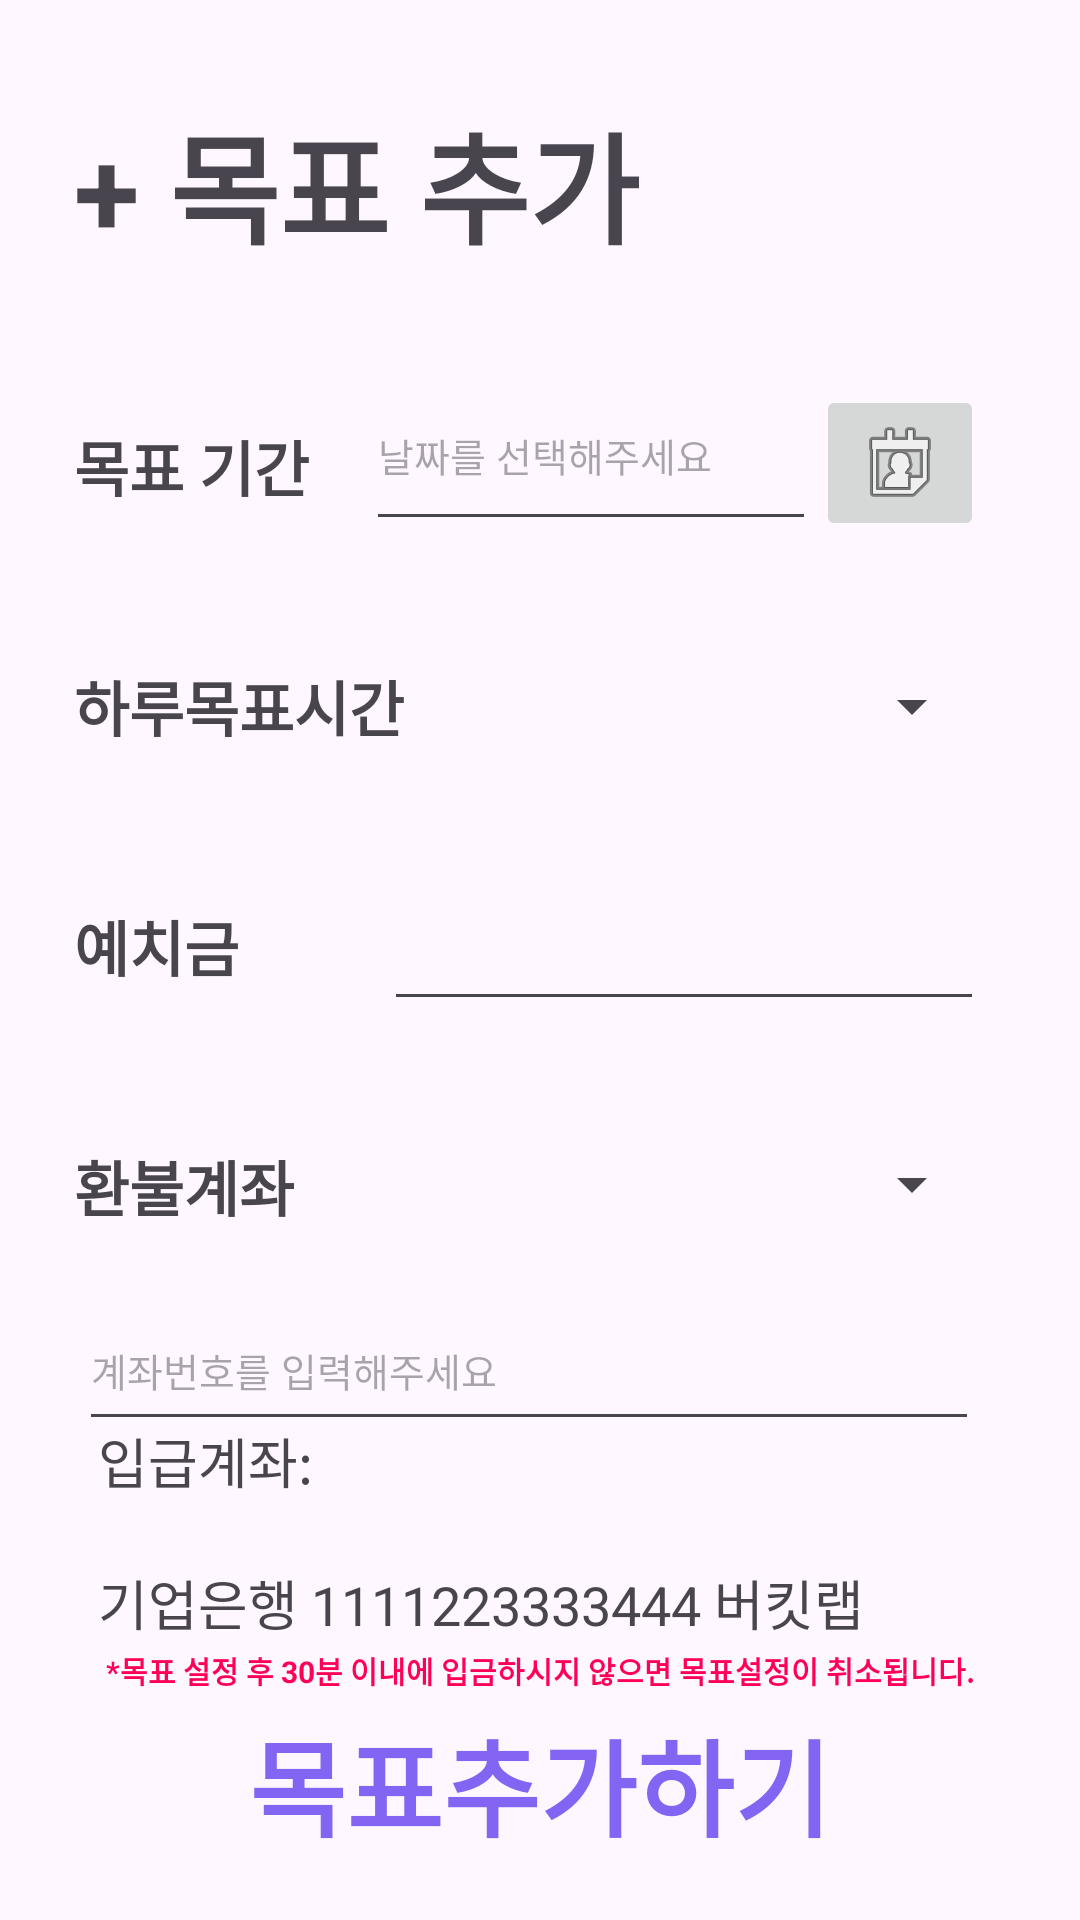

Locate icon controls on the screen. Image size 1080px x 1920px, boxes as (x1, y1, x2, y2).
calendar: (828, 403, 972, 523)
